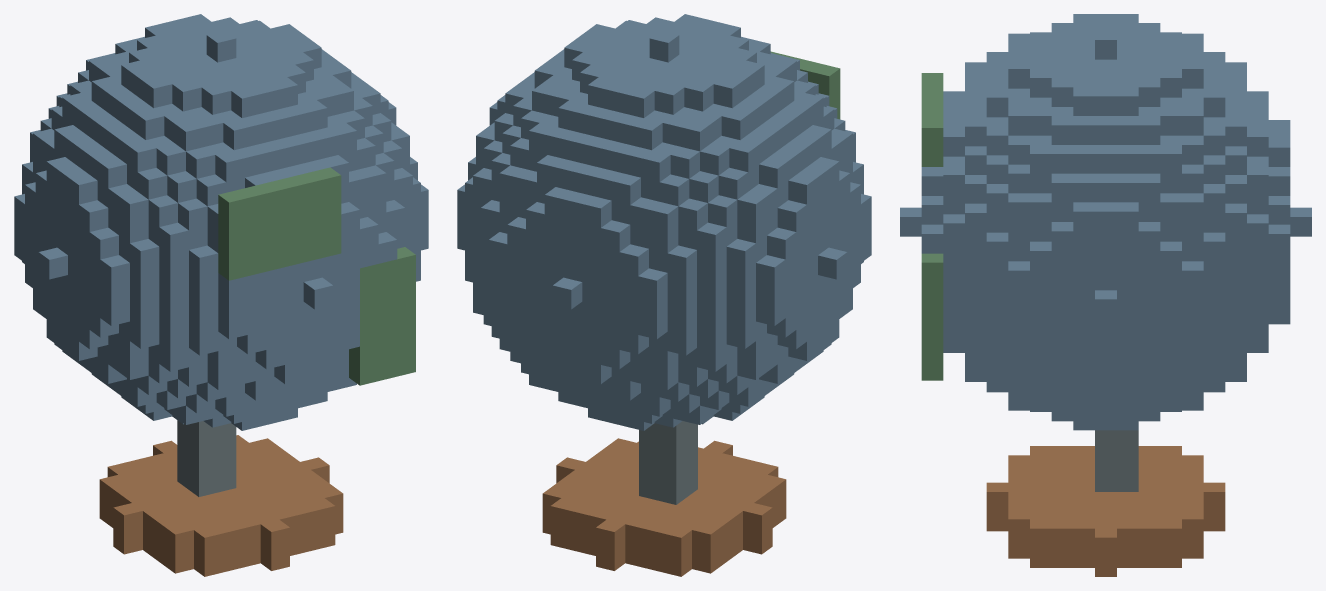
The model's file is news-08.glb.
3 views of the same model, side by side, from view 1: azimuth 30°, elevation 25°; view 2: azimuth 150°, elevation 25°; view 3: azimuth 270°, elevation 25° (orthographic).
Visible parts, largest first — view 1: World globe; view 2: World globe; view 3: World globe.
Boxes of the visible parts, x1,y1,x2,y2 form: World globe: (14, 14, 428, 576); World globe: (457, 14, 871, 576); World globe: (900, 14, 1311, 576).
Bounding box in the file's own units: 1.52 × 2 × 1.52.
